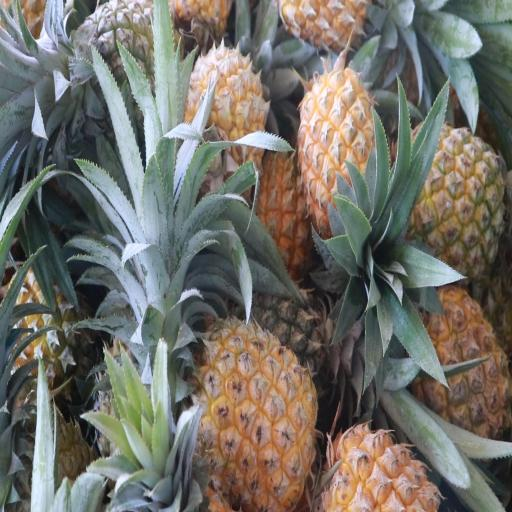Pineapple - v8 v1: (197, 318, 315, 512), (406, 125, 506, 281), (413, 284, 509, 442), (298, 68, 381, 234), (184, 48, 266, 182)
